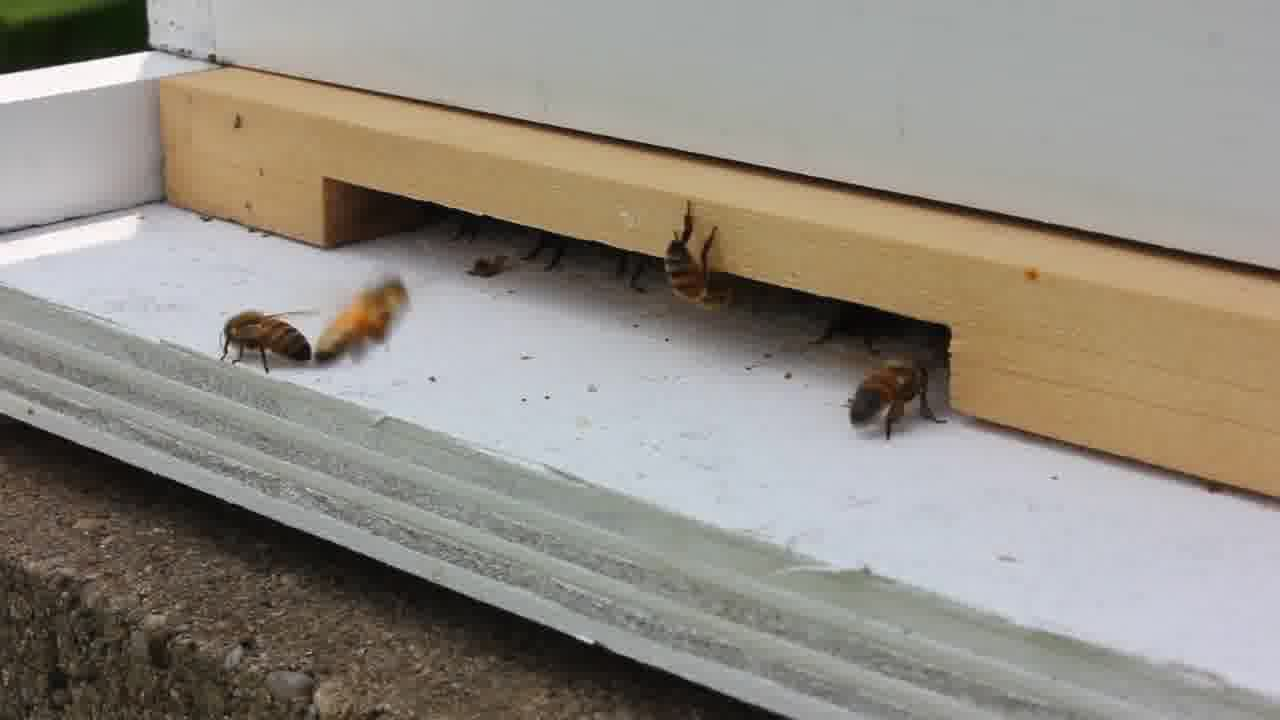pollen: (849, 349, 942, 439)
